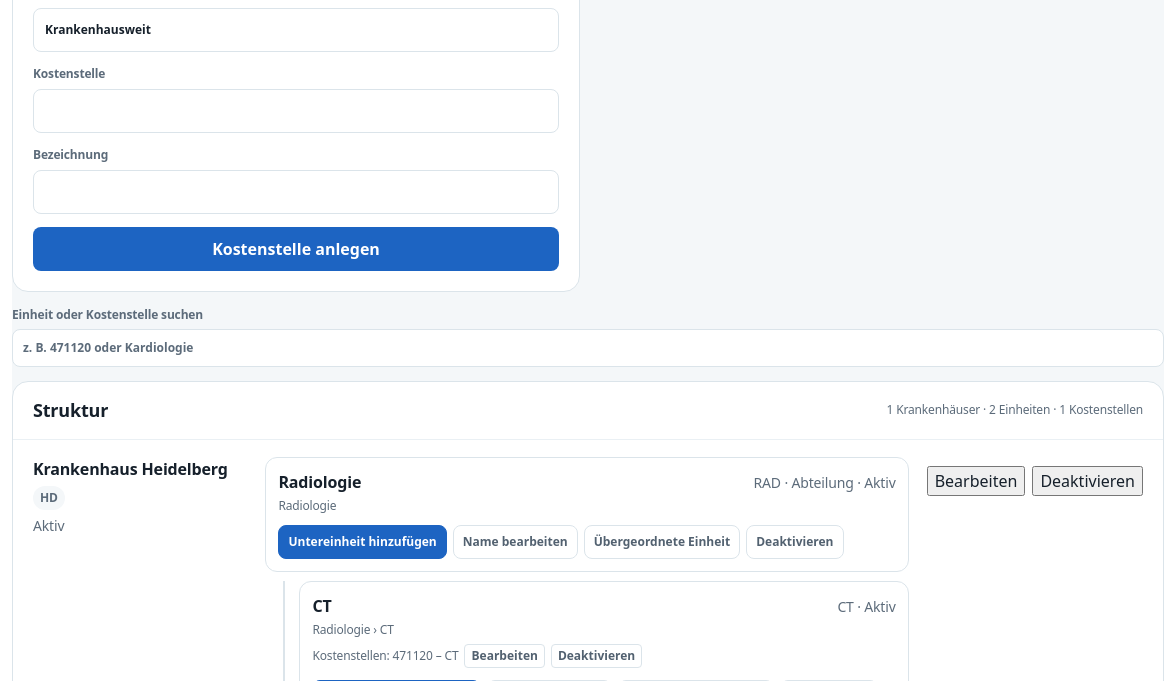
Test case: Organisationsstruktur – WP1 (Einheitentyp, Kostenstellen, Suche) › findet eine Kostenstelle per Nummer und zeigt Pfad und Krankenhaus
(page scrolled)
In the search field labelled "Einheit oder Kostenstelle suchen": (588, 348) 12,329 -> 1164,367, type "471120"
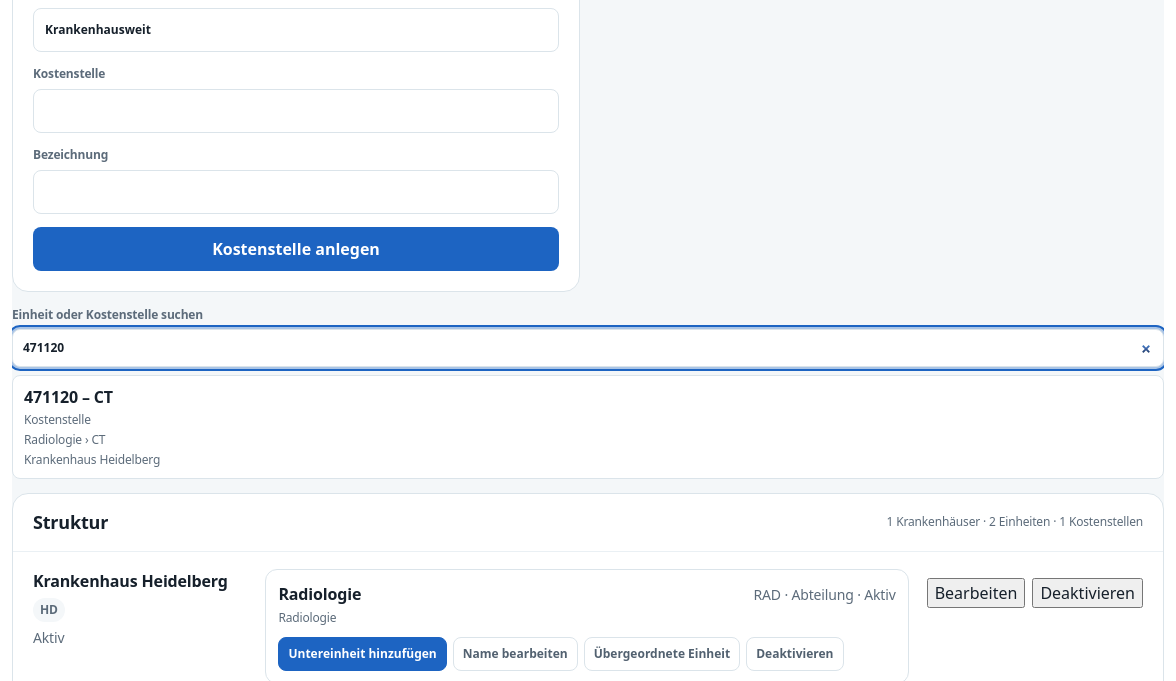
Expected: the text "Radiologie › CT" is shown, 24,431 -> 105,448
Expected: the text "Kostenstelle" is shown, 24,411 -> 91,428
Expected: the text "Krankenhaus Heidelberg" below "Einheit oder Kostenstelle suchen" is shown, 24,451 -> 160,468
